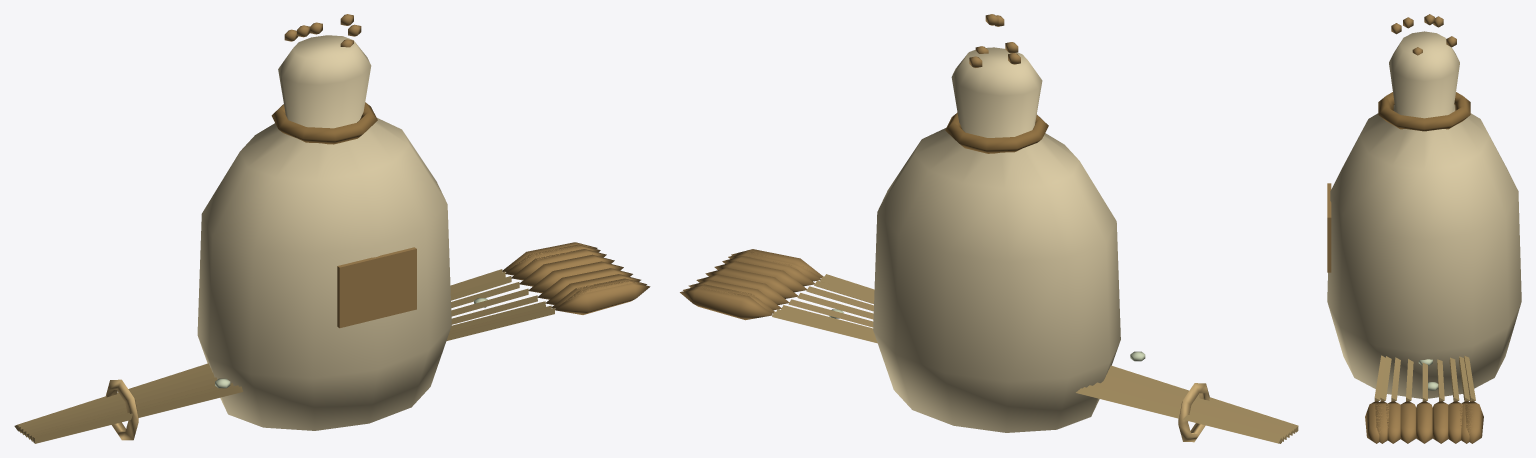
Rendered from Grain_Rye.fbx.
3 views of the same model, side by side, from view 1: azimuth 30°, elevation 25°; view 2: azimuth 150°, elevation 25°; view 3: azimuth 270°, elevation 25° (orthographic). The views are drawn at different scales.
Visible parts, largest first — view 1: Grain_Rye__Stack, Grain_Rye; view 2: Grain_Rye__Stack, Grain_Rye; view 3: Grain_Rye__Stack, Grain_Rye.
Part boxes in pixels (x1,y1,x2,y2): Grain_Rye__Stack: [197, 14, 451, 430]; Grain_Rye: [14, 242, 650, 443]; Grain_Rye__Stack: [873, 14, 1120, 432]; Grain_Rye: [680, 249, 1298, 443]; Grain_Rye__Stack: [1327, 14, 1521, 398]; Grain_Rye: [1365, 355, 1483, 443].
Bounding box in the file's own units: 0.3101 × 0.188 × 0.096.
